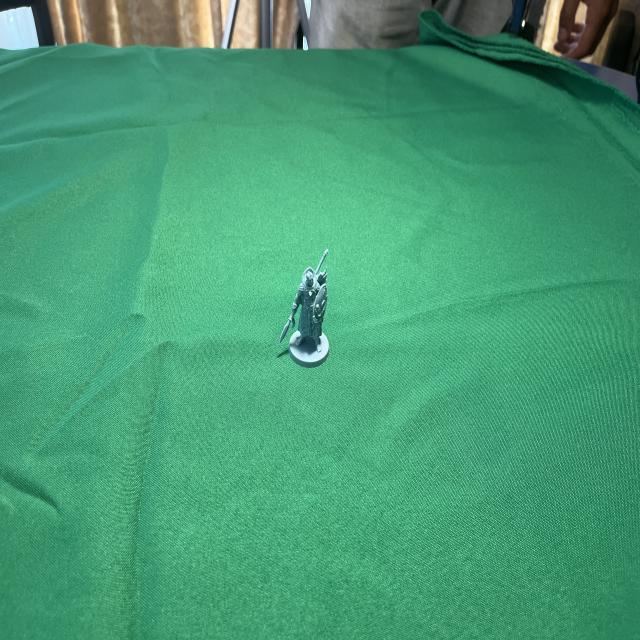isis_follower: (280, 260, 337, 376)
